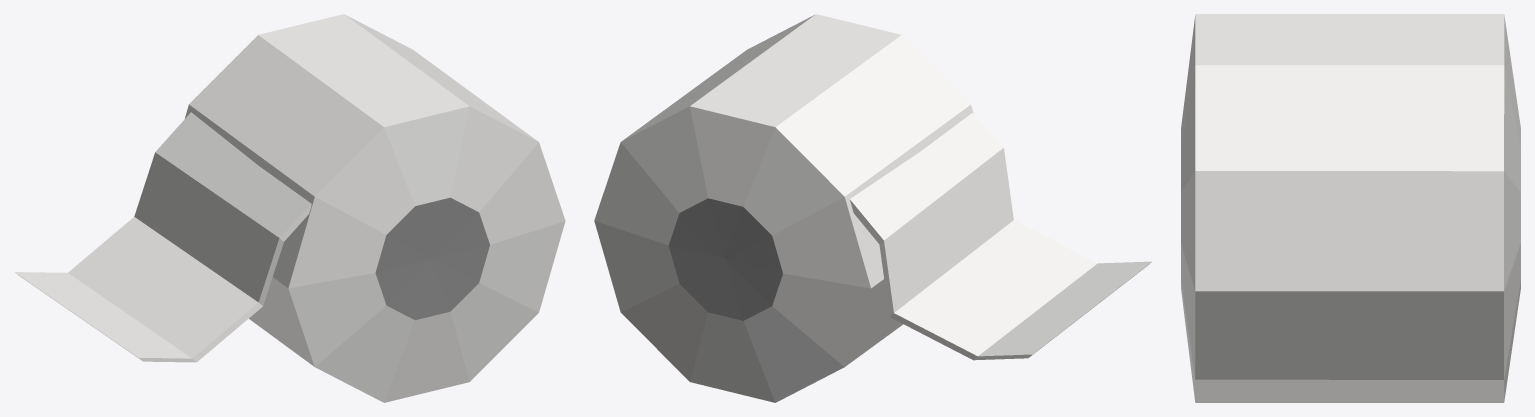
Rendered from Paper_2.fbx.
3 renders of one model, left to right at view 1: azimuth 30°, elevation 25°; view 2: azimuth 150°, elevation 25°; view 3: azimuth 270°, elevation 25°, orthographic. The views are drawn at different scales.
Visible parts, largest first — view 1: Paper_2; view 2: Paper_2; view 3: Paper_2.
Part boxes in pixels (left/top/right/bottom): Paper_2: left=15, top=14, right=565, bottom=402; Paper_2: left=594, top=14, right=1151, bottom=402; Paper_2: left=1181, top=14, right=1520, bottom=402.
Bounding box in the file's own units: 30.31 × 16.87 × 18.49.
